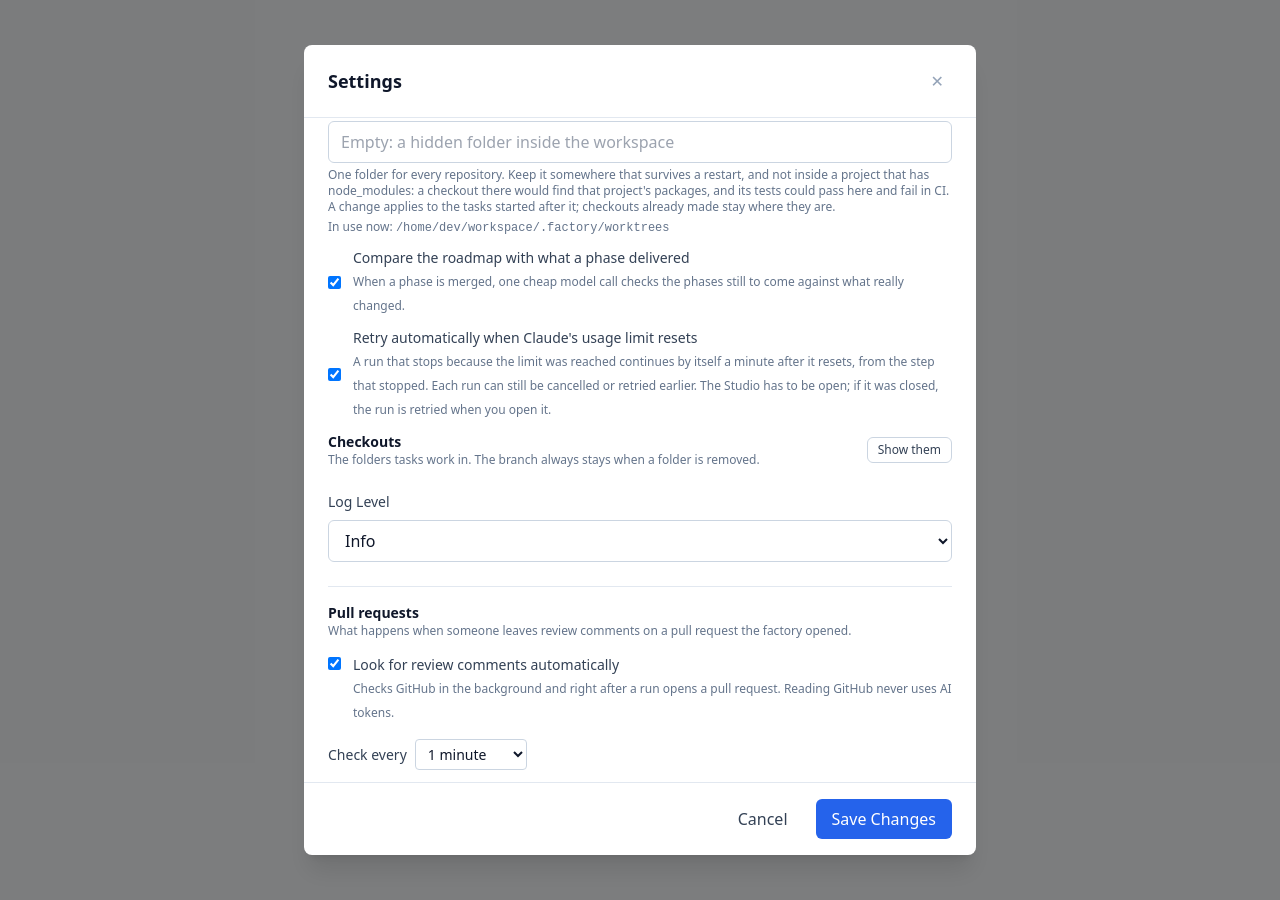
it: the checkouts › lists them with their task, folder, branch and pull request
(page scrolled)
Click the button "Show them" at (909,450), box top-left (867, 437), bottom-right (952, 463)
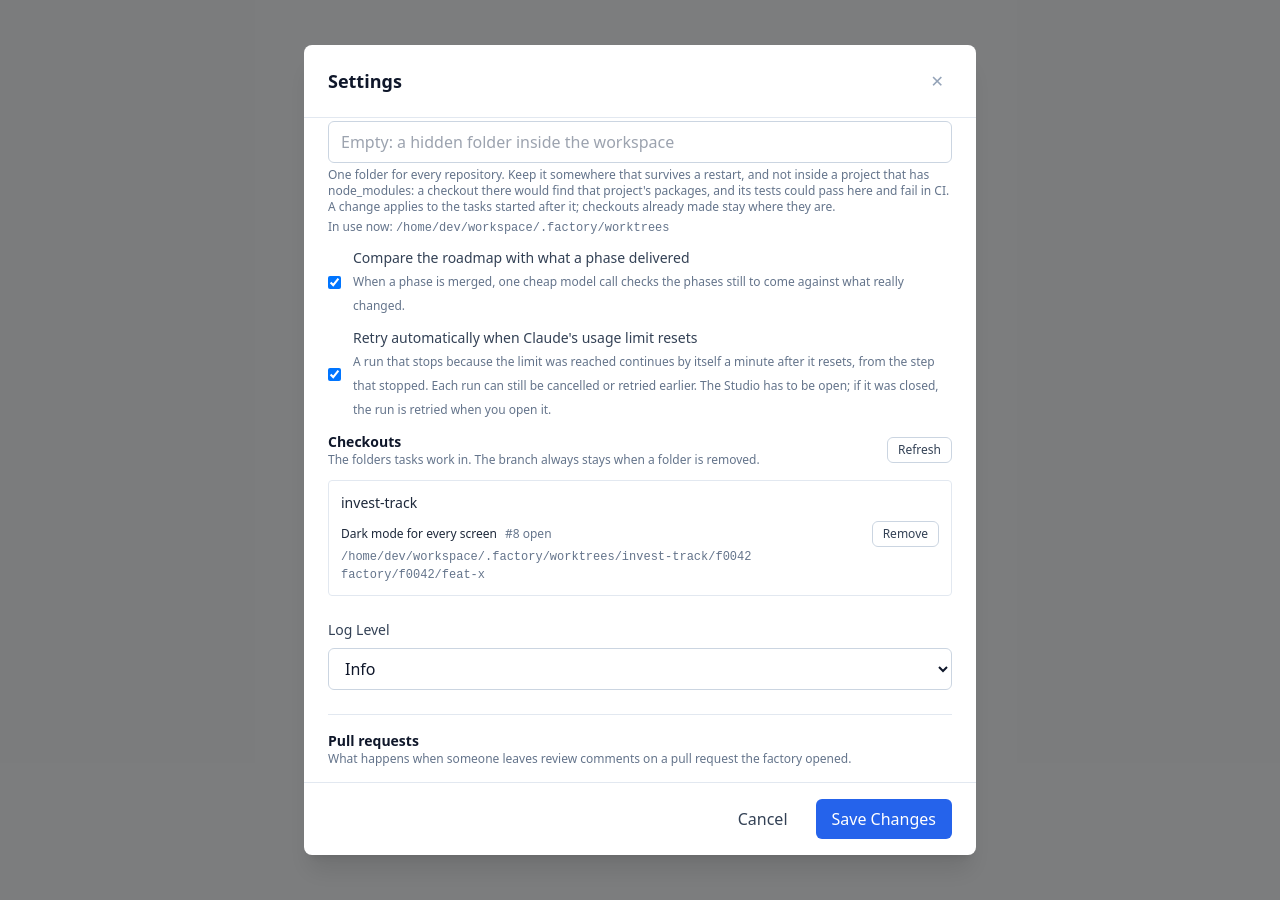
Expected: the element with test id "worktrees-invest-track" shows "Dark mode for every screen", top-left (341, 525), bottom-right (497, 542)
Expected: the element with test id "worktrees-invest-track" shows "#8 open", top-left (328, 480), bottom-right (952, 596)
Expected: the element with test id "worktrees-invest-track" shows "/home/dev/workspace/.factory/worktrees/invest-track/f0042", top-left (341, 550), bottom-right (752, 564)
